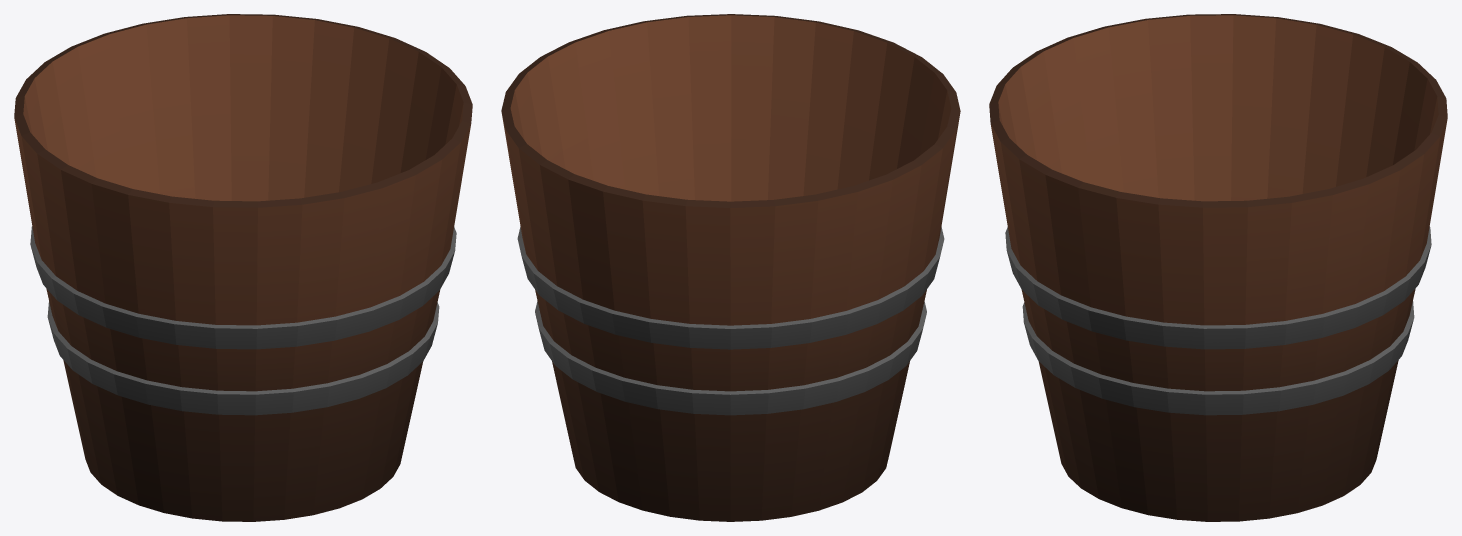
File: Small Dark Wooden Bucket.fbx
The picture shows the model from 3 angles, left to right: view 1: azimuth 30°, elevation 25°; view 2: azimuth 150°, elevation 25°; view 3: azimuth 270°, elevation 25°; orthographic projection.
Parts seen in each view (by area): view 1: Small Dark Wooden Bucket; view 2: Small Dark Wooden Bucket; view 3: Small Dark Wooden Bucket.
Boxes of the visible parts, box(x1,y1,x2,y2) form: Small Dark Wooden Bucket: box(14, 14, 472, 521); Small Dark Wooden Bucket: box(501, 14, 960, 521); Small Dark Wooden Bucket: box(989, 14, 1447, 521).
Bounding box in the file's own units: 104 × 124 × 124.
1 material, 1 textured.
